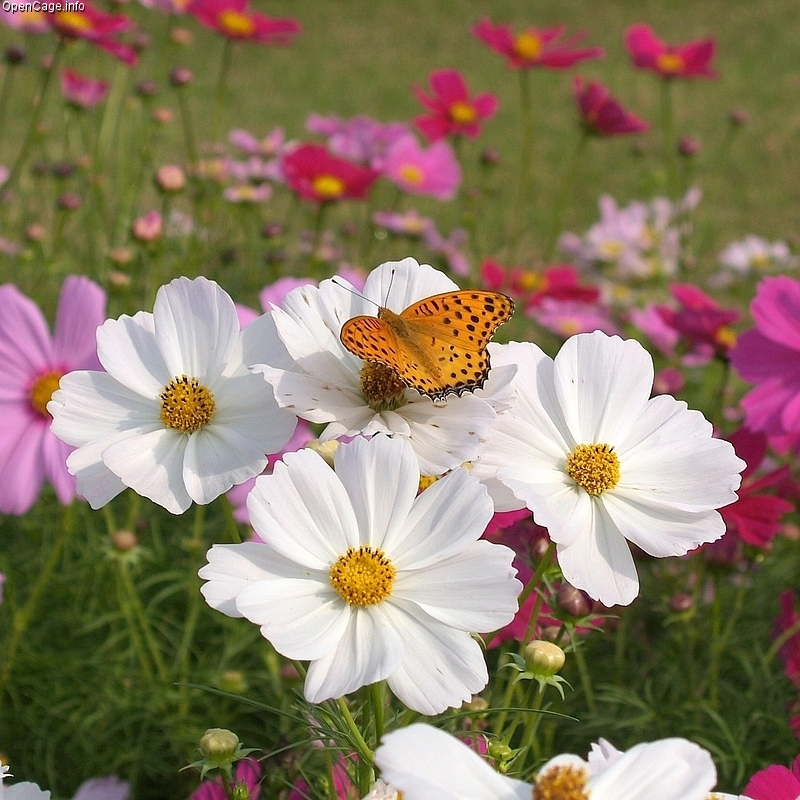Argyreus hyperbius: (322, 268, 524, 400)
butterfly: (324, 270, 526, 402)
